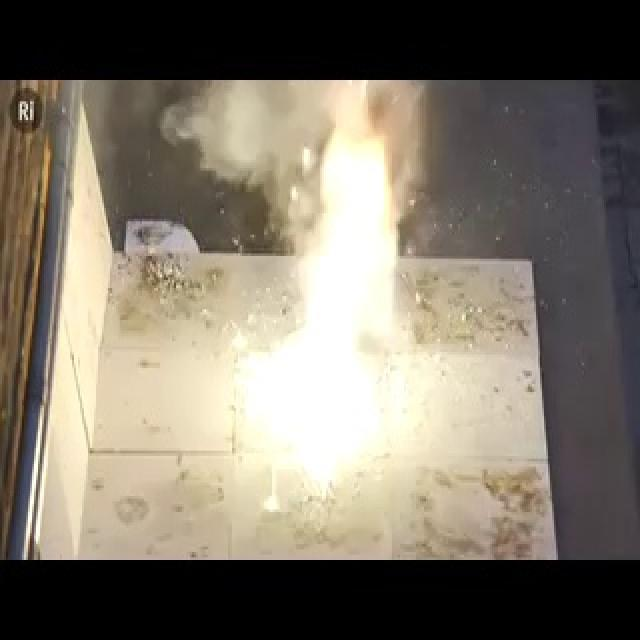fire: (240, 154, 398, 480)
